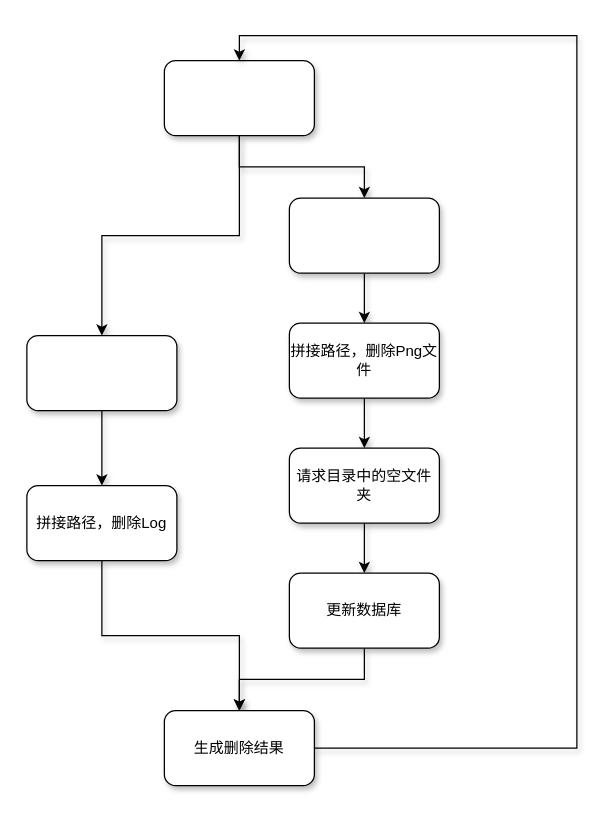
The diagram is 616 pixels wide and 816 high, and some of its shapes have lost their labels. The shapes that lost their labels are listed below. From the top down, each one's centre as x and y in pixels, then its label:
At [240,99]: "程序定时启动".
At [365,237]: "查询过期文件数据".
At [102,374]: "查询过期的日志".
